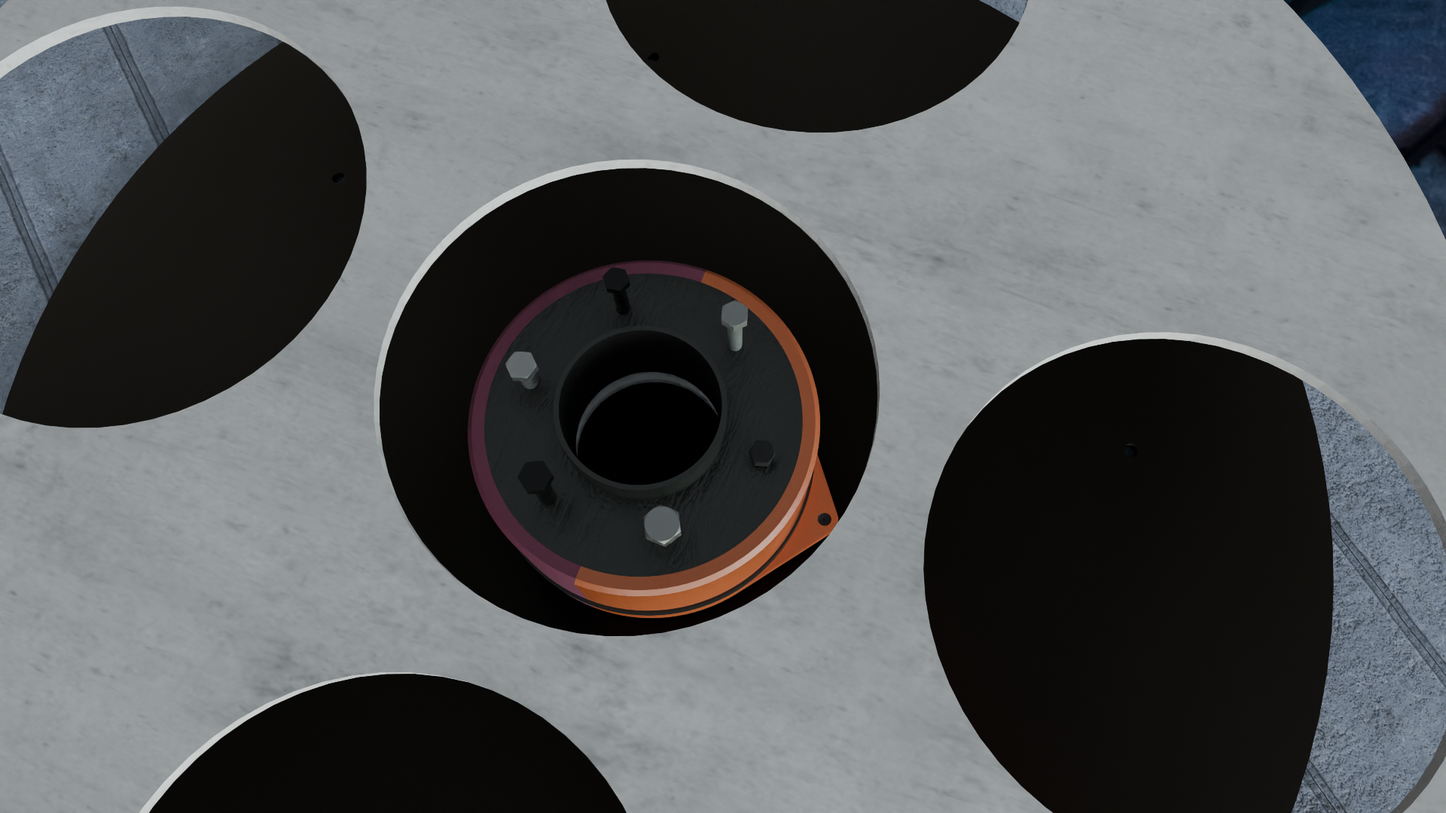bolt: (643, 504, 681, 544), (517, 461, 552, 492), (505, 352, 537, 379), (721, 300, 748, 327), (602, 267, 629, 291), (749, 440, 776, 464)
